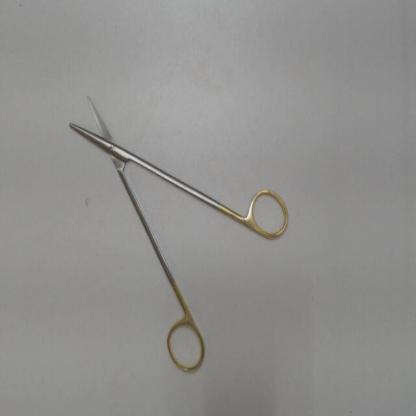7 Metzenbaum Scissors: (66, 86, 296, 382)
